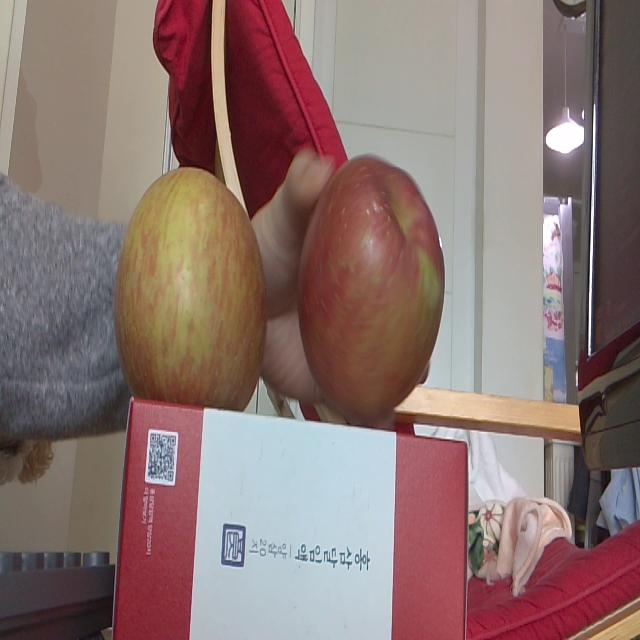apple: (296, 156, 446, 428), (114, 166, 268, 412)
